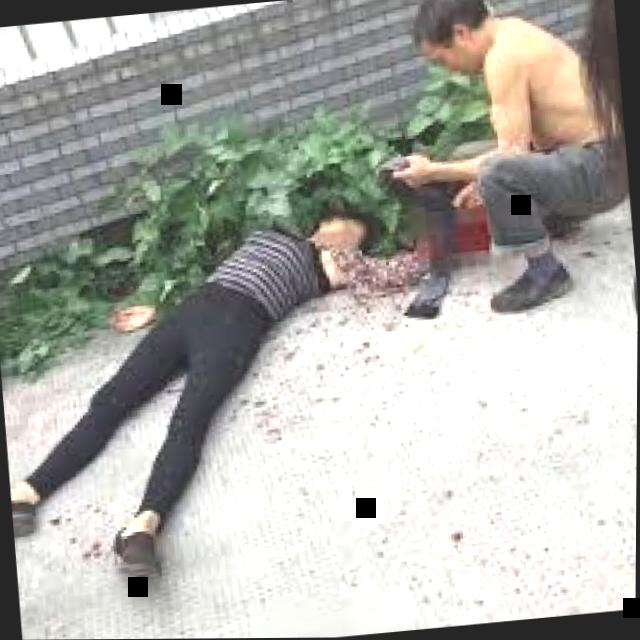Fall-Detected: (0, 171, 461, 603)
